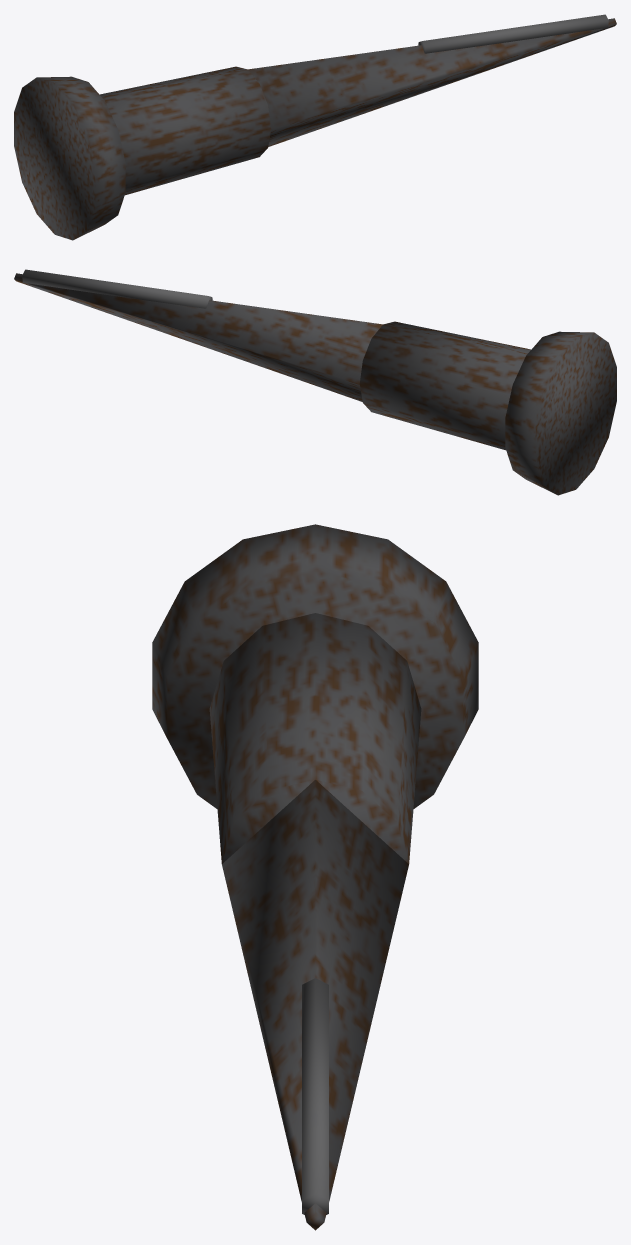
File: FL_ArrowheadNail.fbx
3 renders of one model, top to bottom at view 1: azimuth 30°, elevation 25°; view 2: azimuth 150°, elevation 25°; view 3: azimuth 270°, elevation 25°, orthographic. The views are drawn at different scales.
Visible parts, largest first — view 1: FL_ArrowheadNail; view 2: FL_ArrowheadNail; view 3: FL_ArrowheadNail.
Part boxes in pixels (x1=…): FL_ArrowheadNail: x1=14, y1=14, x2=616, y2=240; FL_ArrowheadNail: x1=14, y1=269, x2=616, y2=495; FL_ArrowheadNail: x1=152, y1=524, x2=478, y2=1230.
Bounding box in the file's own units: 0.00483 × 0.00125 × 0.00122.
